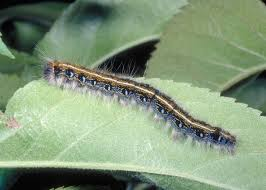Caterpillar: (37, 52, 236, 149)
